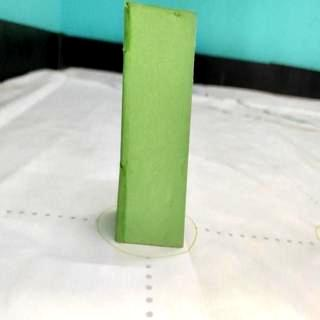greenbox: (113, 0, 199, 248)
